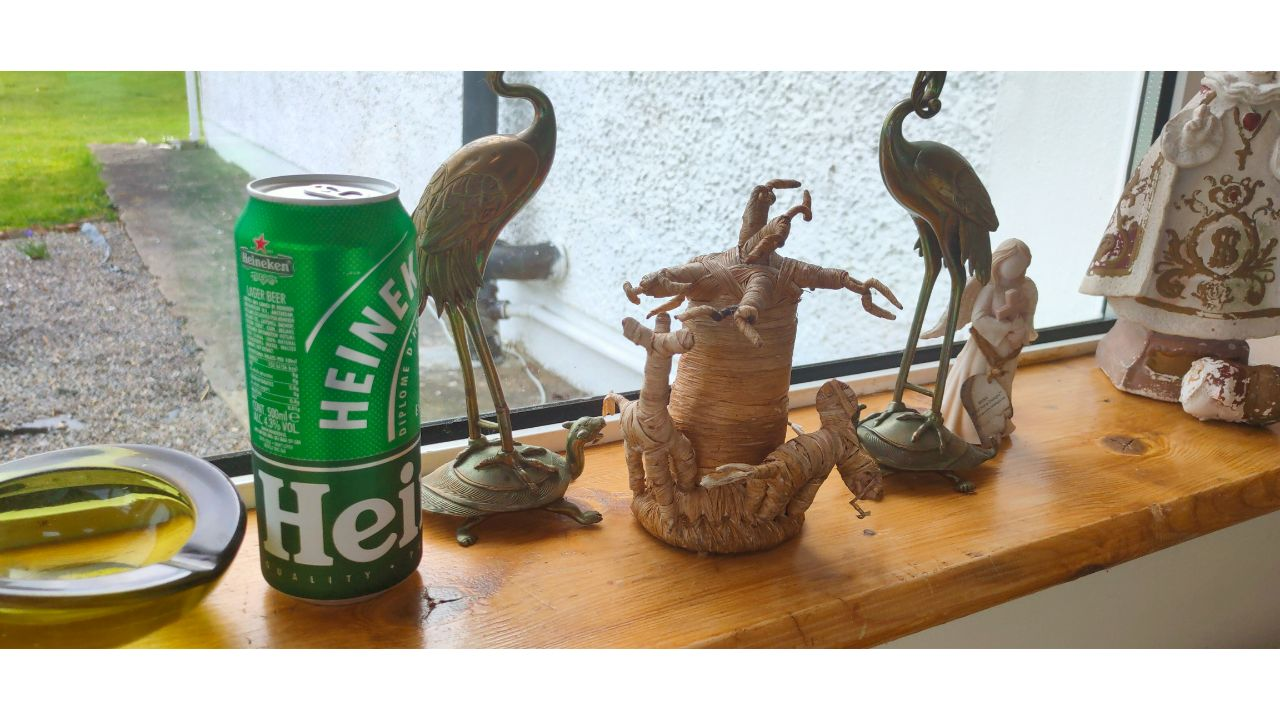Can: (234, 172, 428, 607)
